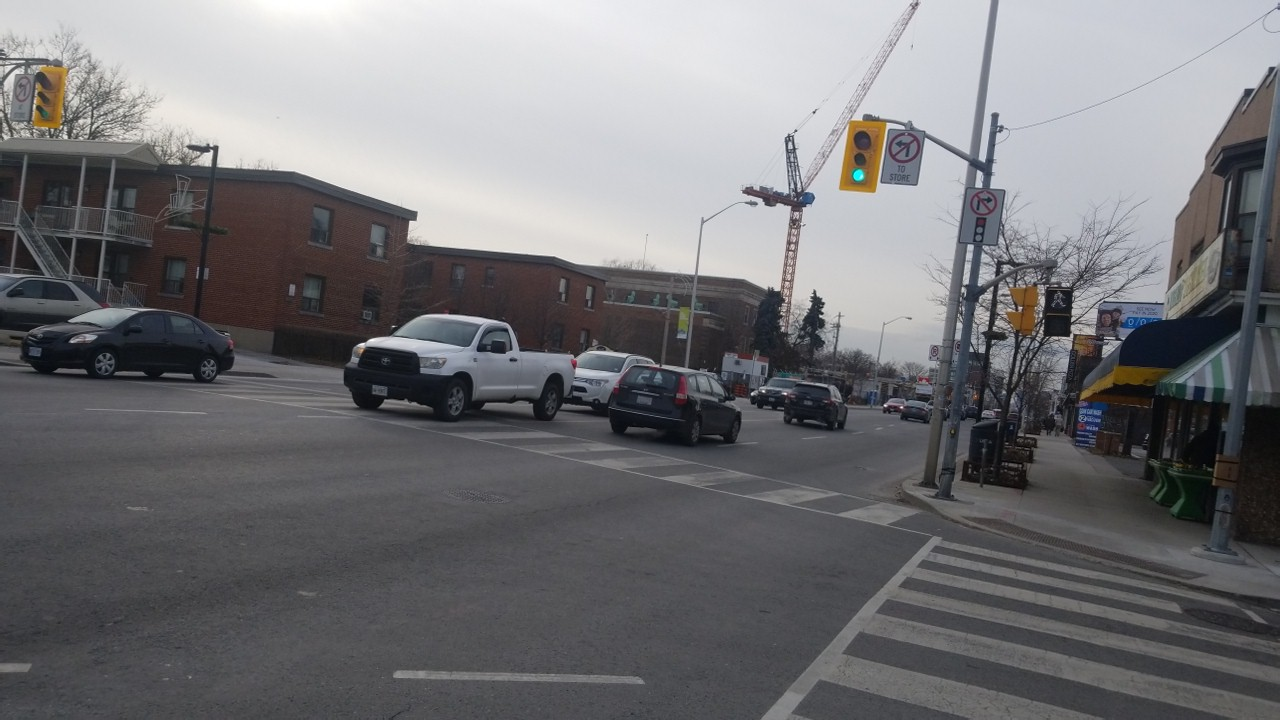light: (1039, 279, 1074, 344)
